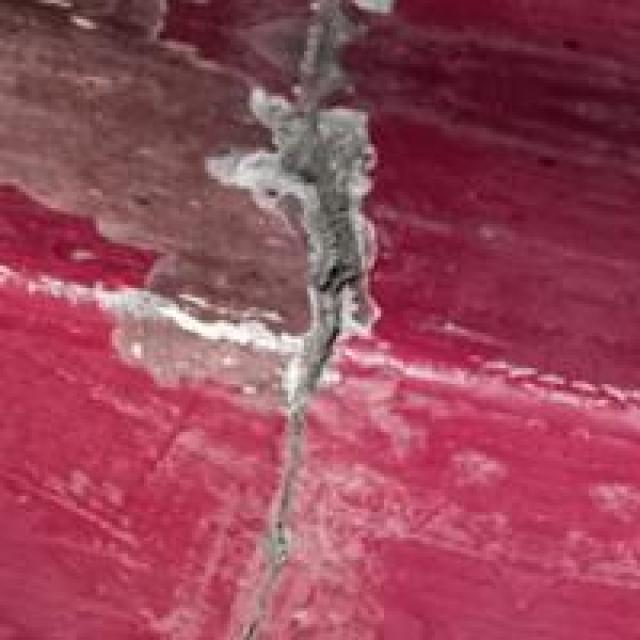Crack: (154, 0, 432, 637)
